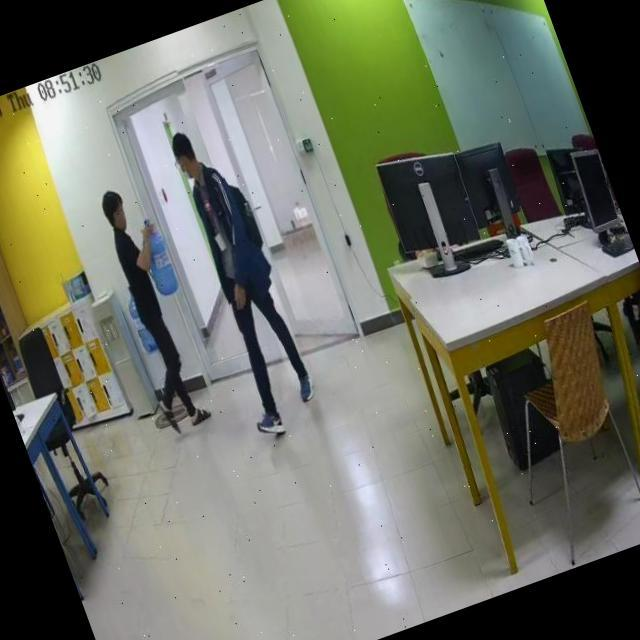person: (158, 112, 326, 438), (90, 184, 214, 434)
